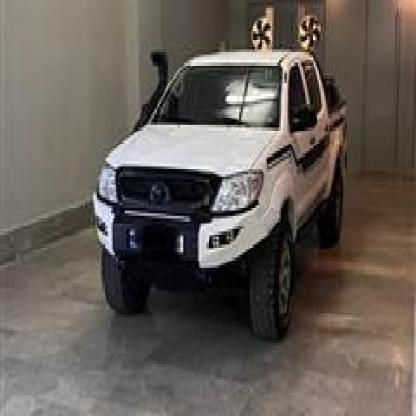Car: (90, 39, 355, 335)
